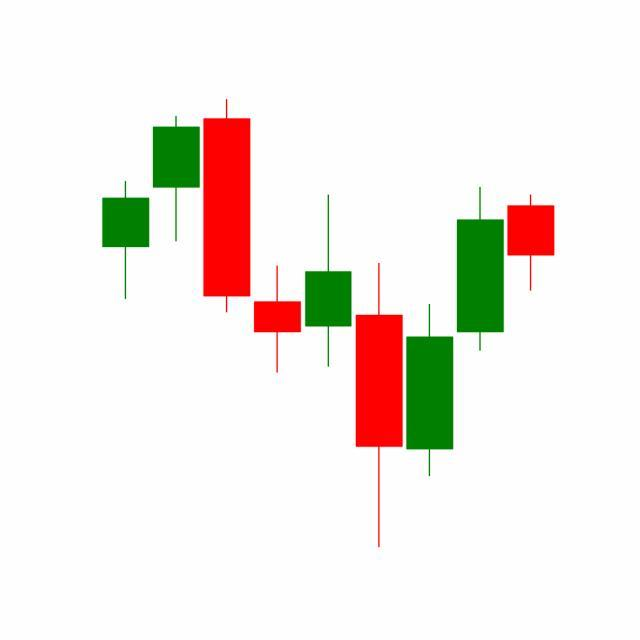Hikkake Pattern: (252, 183, 506, 549)
